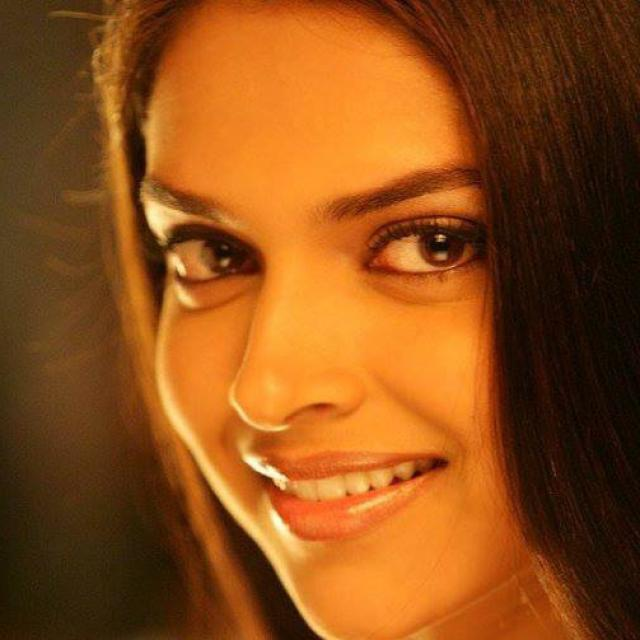Normal: (137, 3, 557, 639)
